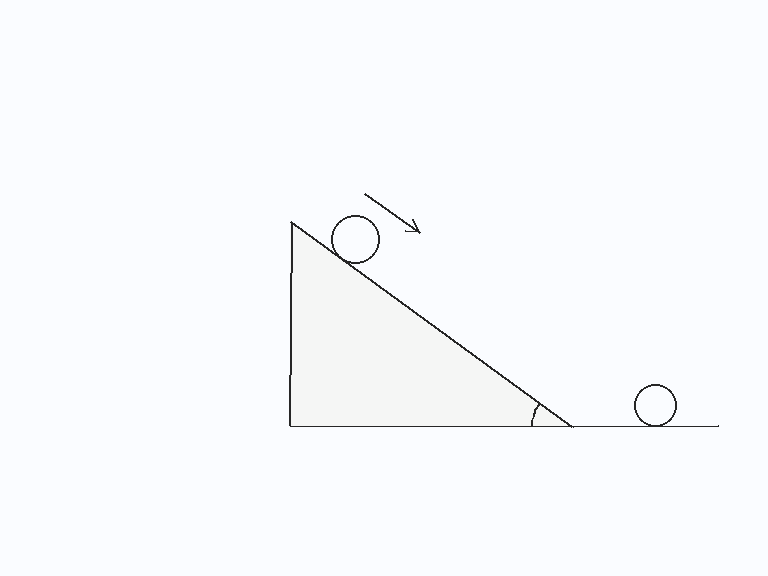ball: (329, 213, 381, 265), (632, 382, 678, 428)
ramp: (288, 219, 574, 428)
